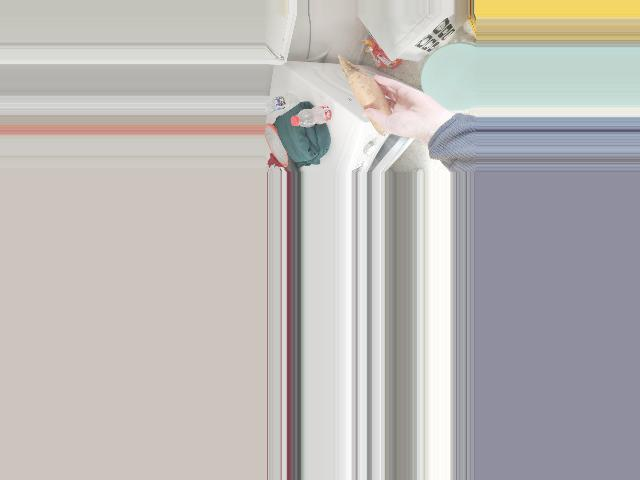sweet_potato: (351, 76, 387, 126)
